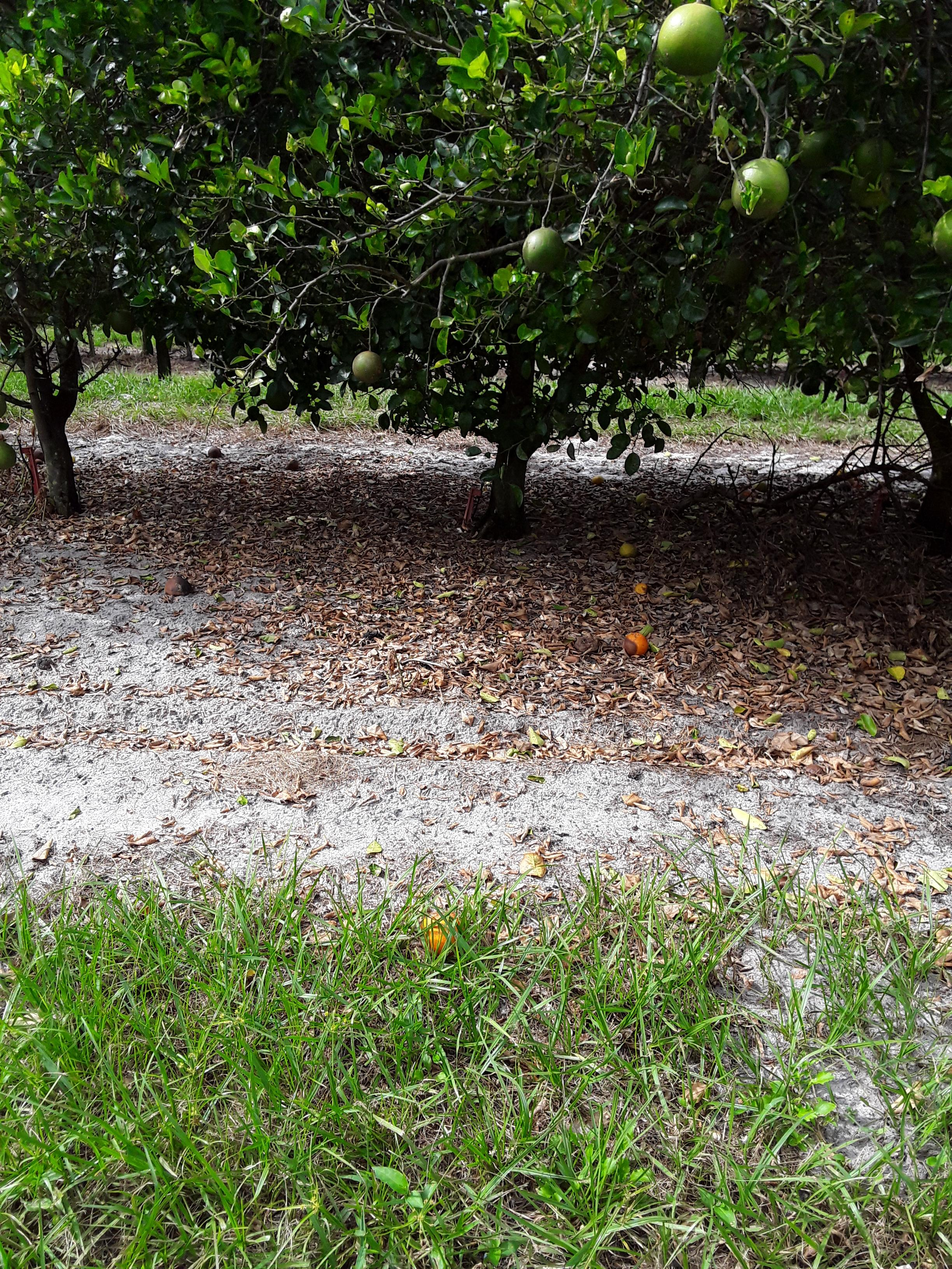fruit_on_ground: (655, 2, 731, 77), (732, 153, 793, 220), (795, 113, 847, 175), (518, 224, 568, 278), (540, 148, 586, 200), (572, 278, 618, 327), (674, 156, 723, 197), (855, 131, 895, 180), (719, 246, 753, 294), (605, 182, 644, 223), (350, 348, 389, 386), (927, 205, 952, 263), (109, 307, 137, 336), (265, 382, 290, 410), (1, 436, 19, 472), (800, 376, 824, 397), (865, 401, 884, 422), (0, 390, 11, 421)
fruit_on_tree: (415, 904, 472, 961), (416, 908, 467, 956), (622, 631, 653, 660), (570, 631, 606, 655), (162, 573, 196, 598), (616, 539, 641, 560), (33, 444, 49, 467), (284, 455, 302, 475), (588, 470, 606, 489), (739, 485, 758, 503), (633, 580, 652, 598), (207, 445, 223, 460), (635, 490, 649, 507)
